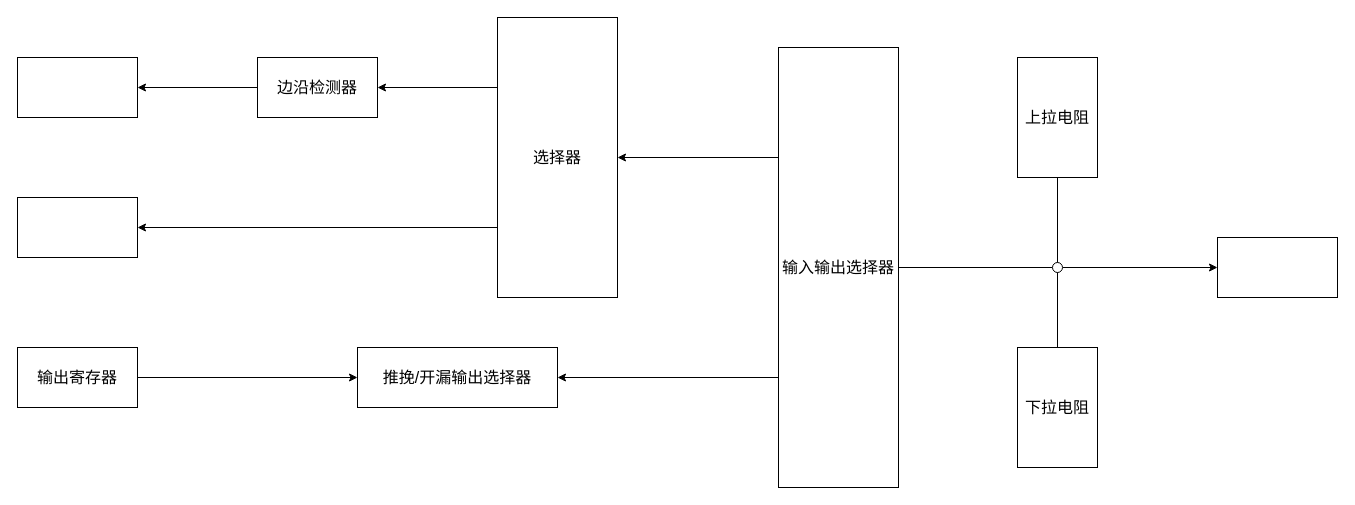
Some shapes in this 1355 by 505 pixel diagram are drawn without their labels. The centre of each missing label's shape, as x and y in pixels:
中断触发器: (77,87)
物理IO_ch: (1277,267)
输入寄存器: (77,227)
